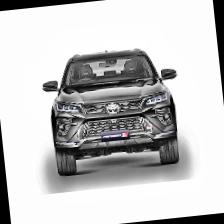NON-EV: (35, 41, 191, 178)
